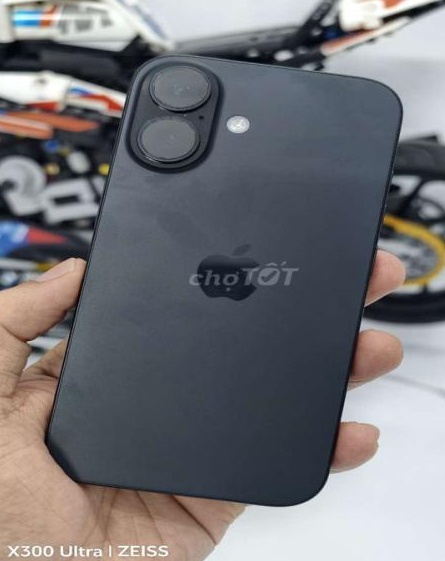scratch: (174, 106, 199, 122)
